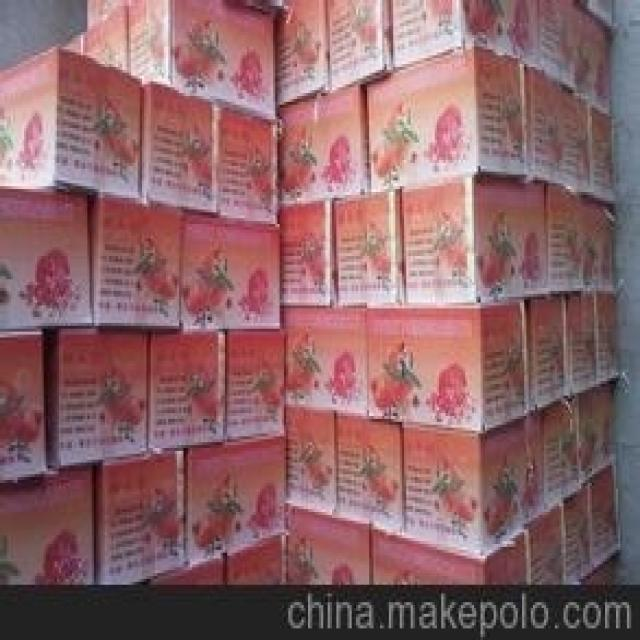box: (365, 49, 524, 192), (0, 44, 142, 201), (365, 297, 526, 431), (402, 175, 548, 308), (400, 413, 529, 553), (127, 0, 277, 119), (186, 433, 286, 564), (0, 192, 92, 332), (57, 329, 151, 465), (98, 448, 186, 585), (92, 192, 181, 326), (181, 209, 280, 329), (277, 84, 367, 207), (391, 0, 537, 70), (140, 81, 214, 212), (284, 305, 369, 416), (149, 332, 225, 454), (371, 524, 529, 582), (212, 99, 280, 224), (334, 189, 404, 308), (336, 413, 404, 532), (0, 332, 46, 483), (286, 503, 371, 582), (225, 329, 284, 439), (325, 0, 393, 90), (273, 0, 328, 108), (284, 401, 336, 512), (280, 198, 330, 308), (526, 396, 564, 521), (542, 183, 583, 294), (524, 64, 561, 186), (526, 294, 564, 410), (574, 0, 612, 113), (561, 288, 598, 396), (537, 0, 577, 93), (225, 532, 288, 588), (581, 195, 618, 288), (588, 457, 620, 564), (559, 480, 592, 582), (561, 81, 590, 195), (526, 503, 566, 585), (585, 99, 616, 204), (564, 390, 592, 500), (87, 6, 129, 73), (588, 381, 618, 474), (594, 285, 620, 384), (146, 556, 223, 585), (87, 0, 127, 26), (59, 26, 87, 55), (588, 0, 614, 29)
